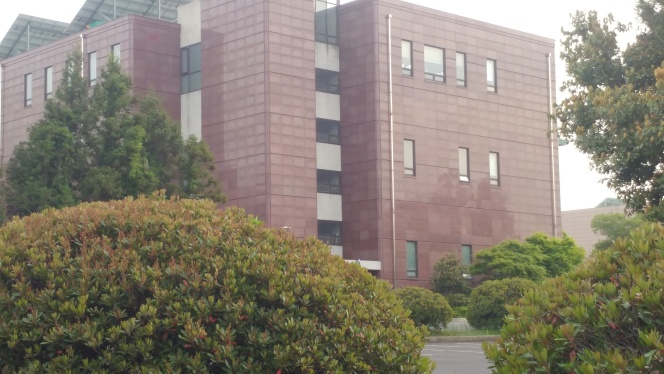Museum: (1, 1, 565, 248), (1, 1, 560, 198), (337, 5, 562, 312), (205, 38, 553, 194)
